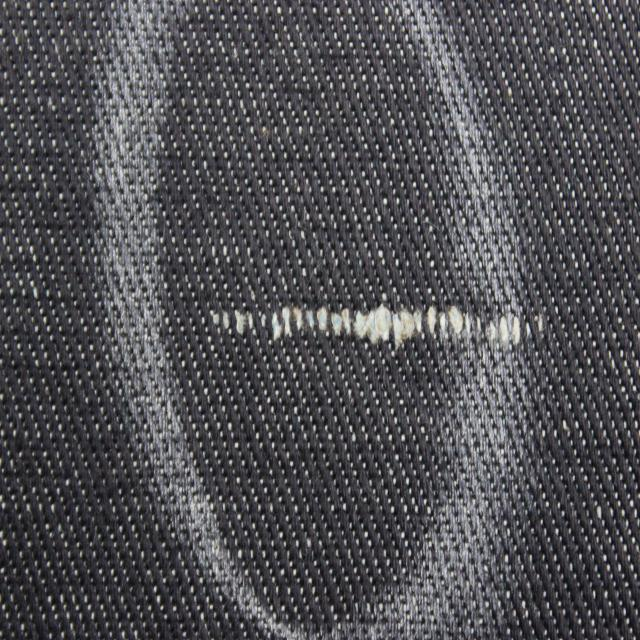pulled_or_thick_thread: (201, 305, 551, 351)
